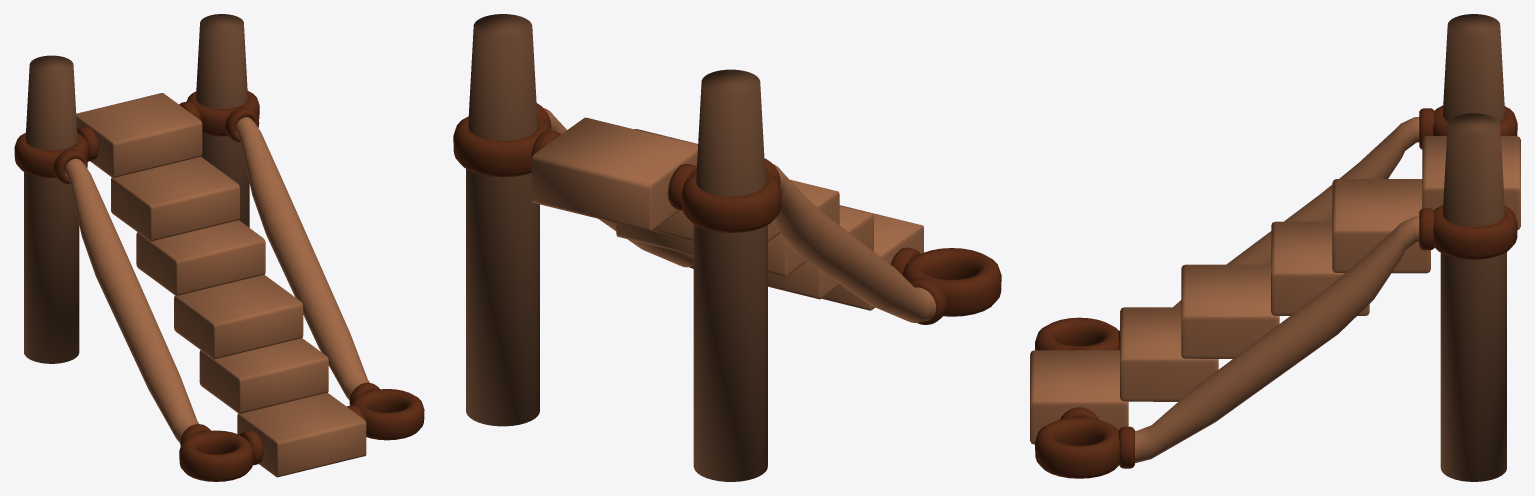
The model's file is step_wood2.glb.
3 views of the same model, side by side, from view 1: azimuth 30°, elevation 25°; view 2: azimuth 150°, elevation 25°; view 3: azimuth 270°, elevation 25° (orthographic). The views are drawn at different scales.
Visible parts, largest first — view 1: step_wood2; view 2: step_wood2; view 3: step_wood2.
Boxes of the visible parts, x1,y1,x2,y2 form: step_wood2: (14, 14, 424, 481); step_wood2: (453, 14, 1001, 481); step_wood2: (1030, 14, 1520, 481).
Bounding box in the file's own units: 4.14 × 4.85 × 6.26.
